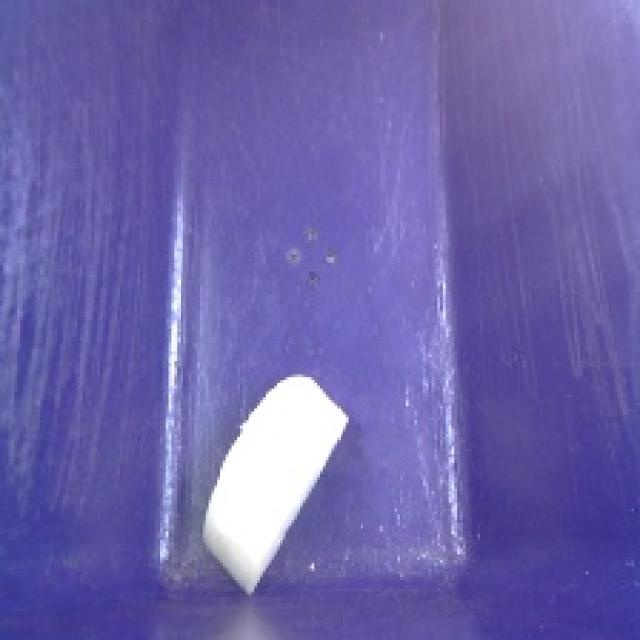white_radish: (194, 364, 358, 603)
